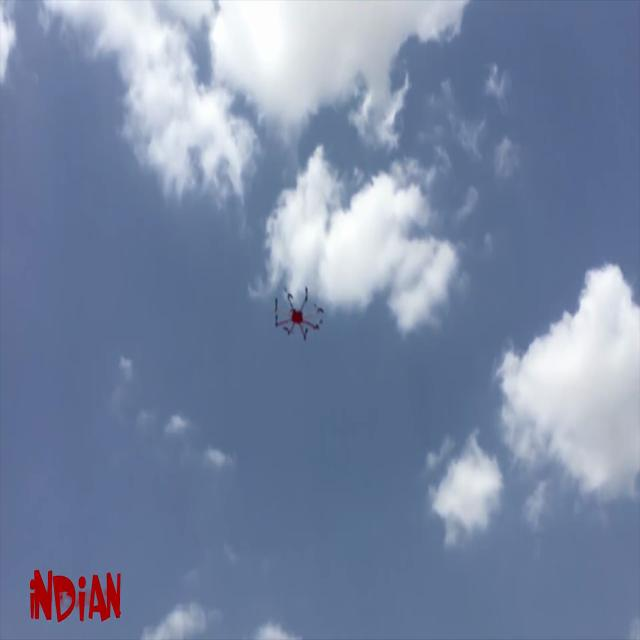drone: (272, 256, 334, 344)
